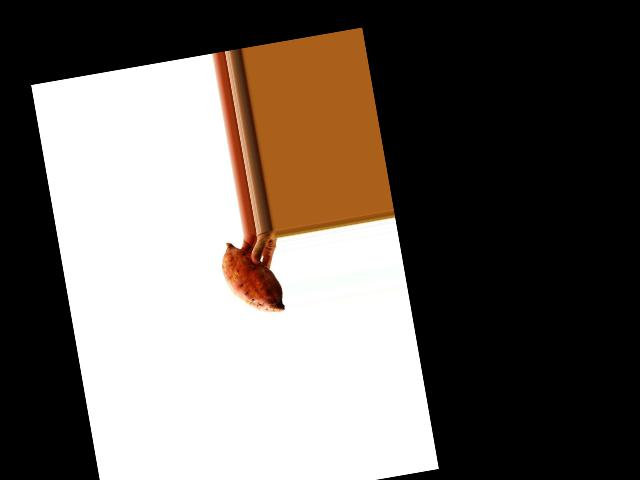sweet_potato: (213, 237, 288, 322)
